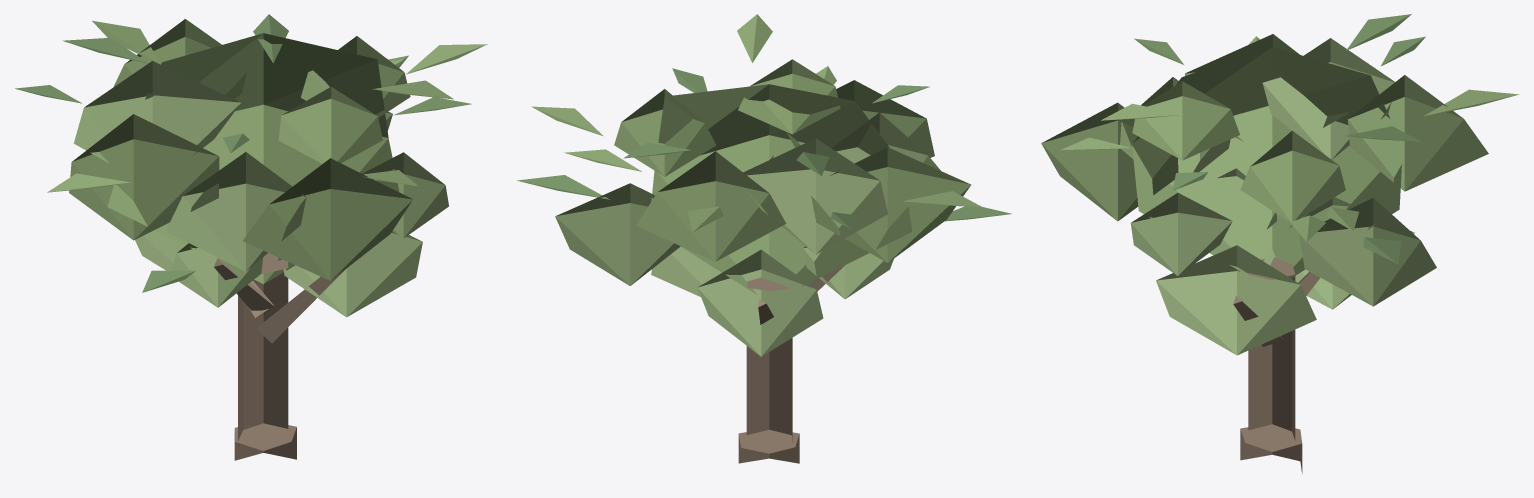
The model's file is shu.gaoshan@subadult__summer.glb.
3 views of the same model, side by side, from view 1: azimuth 30°, elevation 25°; view 2: azimuth 150°, elevation 25°; view 3: azimuth 270°, elevation 25° (orthographic). The views are drawn at different scales.
Visible parts, largest first — view 1: shu.gaoshan@subadult__summer; view 2: shu.gaoshan@subadult__summer; view 3: shu.gaoshan@subadult__summer.
Boxes of the visible parts, box(x1,y1,x2,y2) form: shu.gaoshan@subadult__summer: box(15, 14, 487, 460); shu.gaoshan@subadult__summer: box(517, 14, 1011, 463); shu.gaoshan@subadult__summer: box(1041, 14, 1519, 473).
Bounding box in the file's own units: 8.49 × 7.2 × 7.78.
